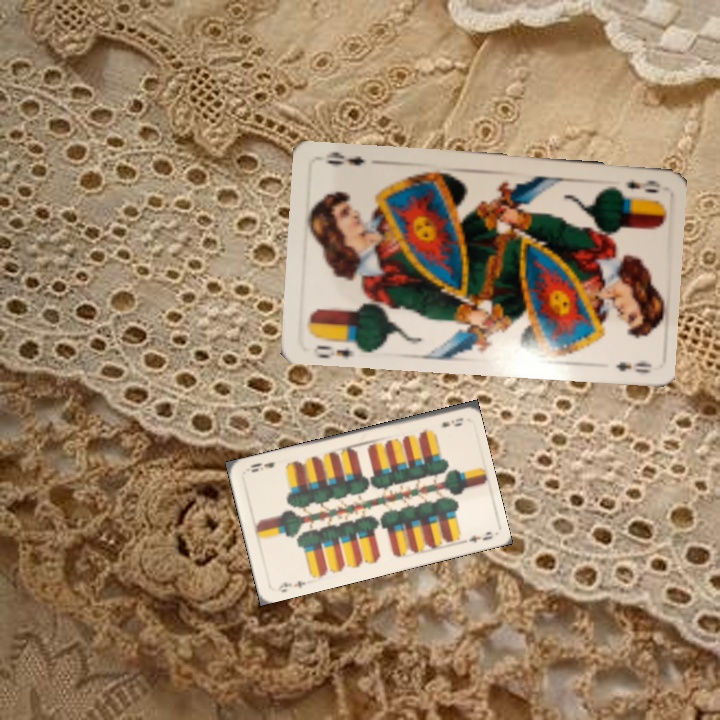E9: (273, 577, 308, 595), (437, 413, 465, 430)
EO: (312, 334, 362, 360), (622, 176, 663, 194)
